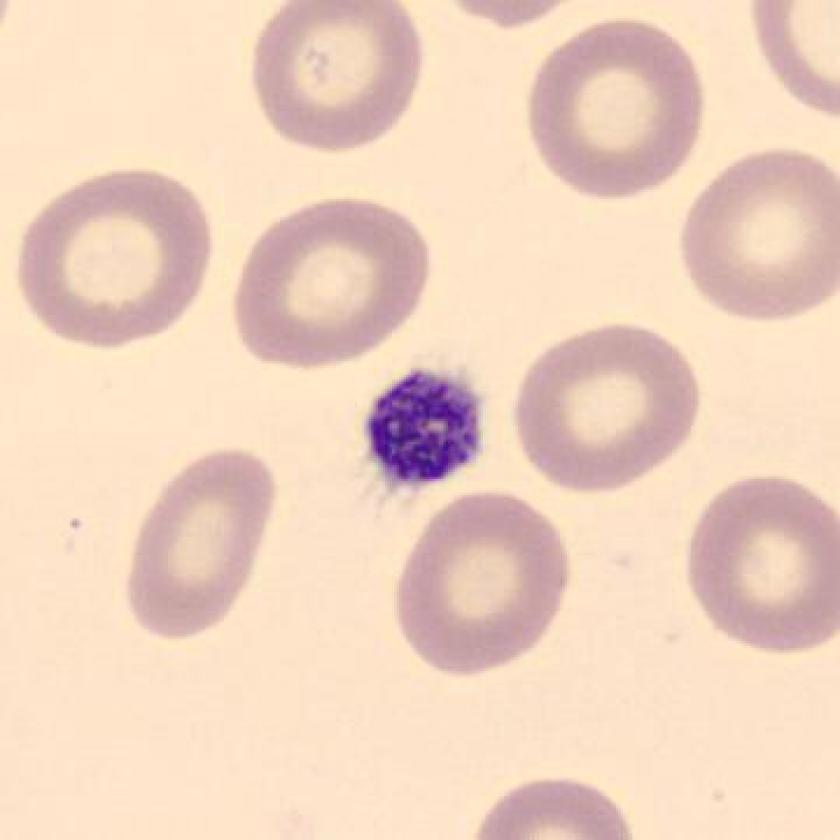platelets: (351, 353, 503, 501)
